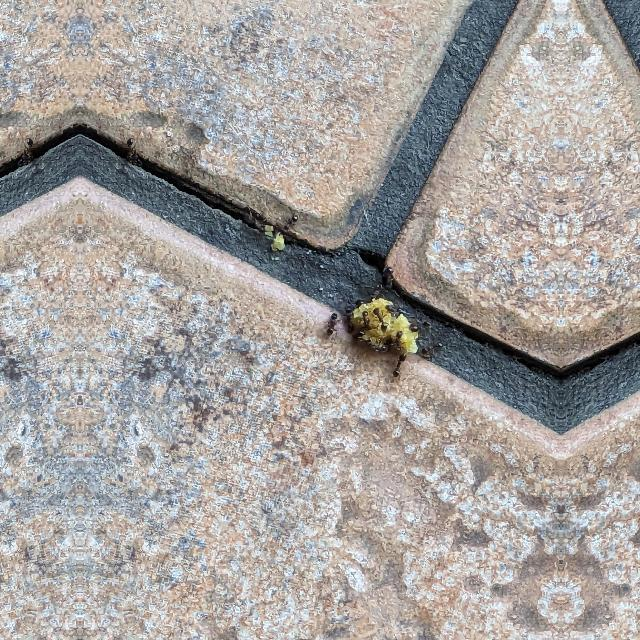Tetramorium: (321, 306, 342, 338), (407, 314, 435, 336), (393, 346, 409, 376), (419, 339, 445, 355), (120, 136, 134, 164), (24, 136, 38, 164), (358, 304, 370, 334), (274, 218, 296, 234), (379, 269, 398, 287), (375, 306, 389, 328)
